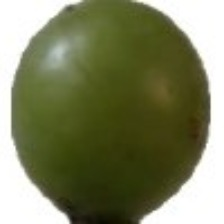grapes: (57, 1, 200, 193)
